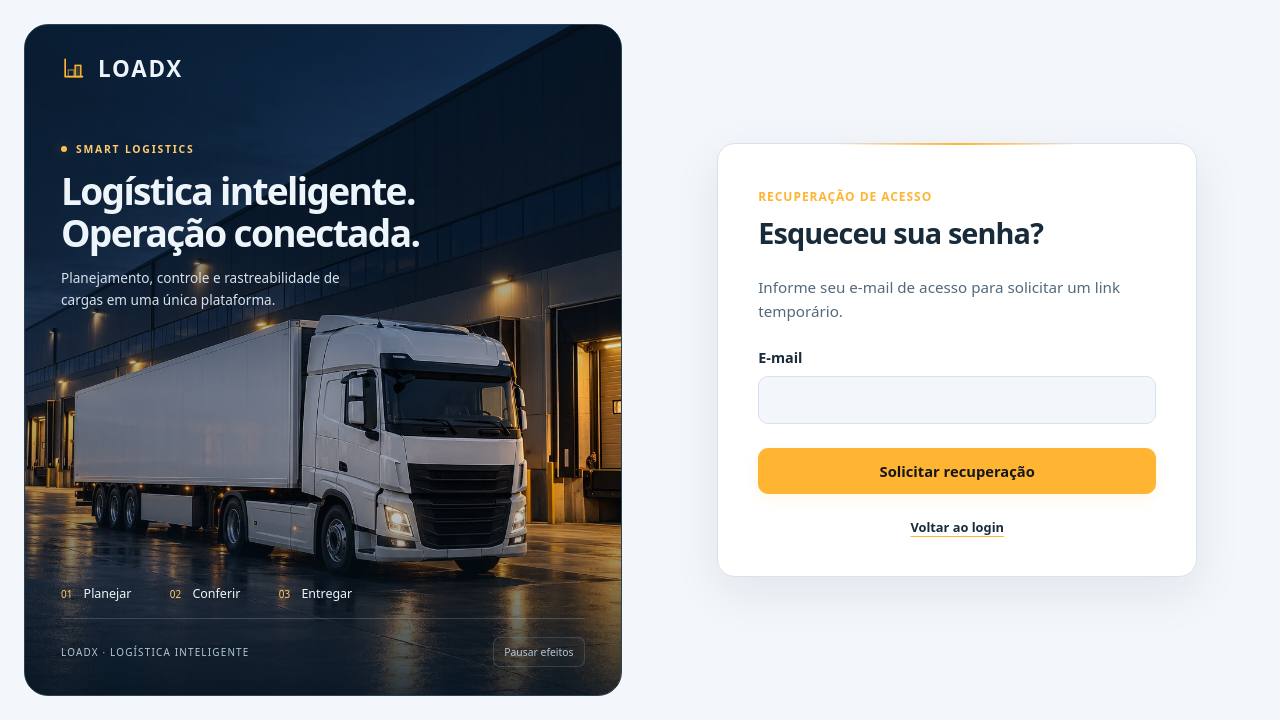
Test: solicita recuperação e mostra resposta neutra
This screenshot has width=1280, height=720.
Type "conta@example.test" into the field labelled "E-mail" at coordinates (957, 400), box [758, 376, 1156, 424]
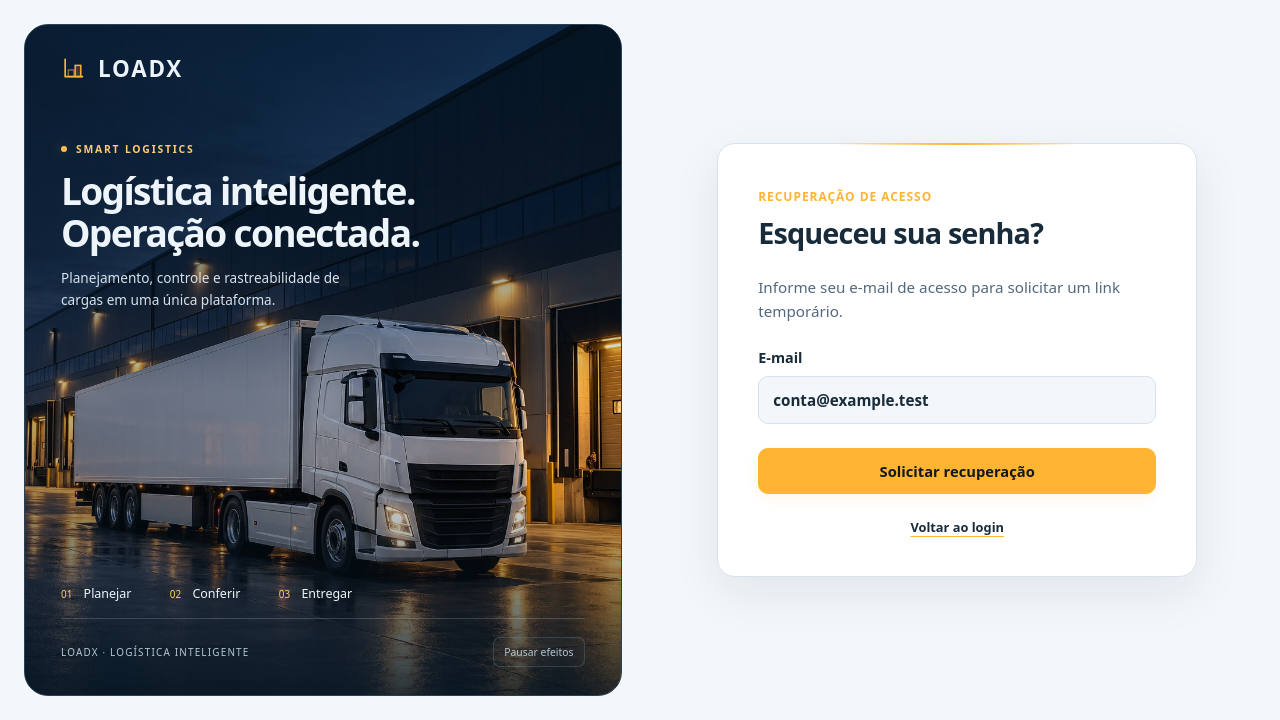
Click the button "Solicitar recuperação" at coordinates (957, 471), box [758, 448, 1156, 494]
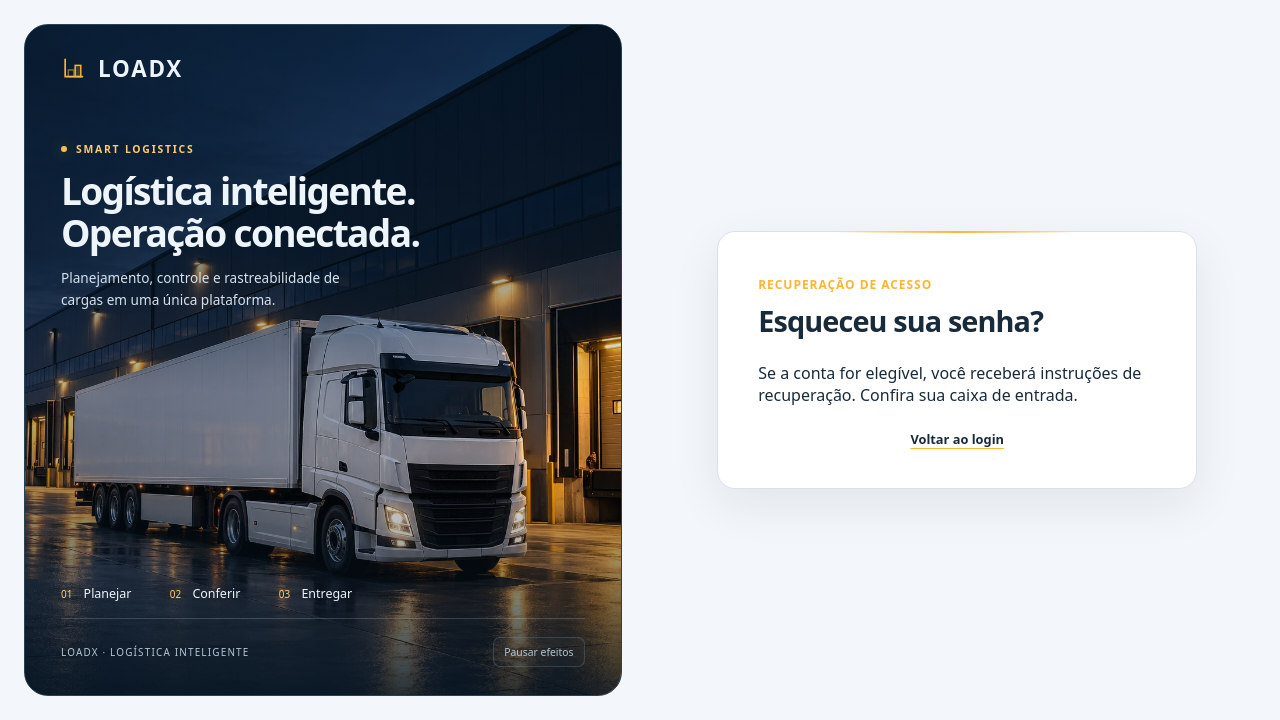
Now the text "Se a conta for elegível" is shown, box [758, 362, 1141, 406]
